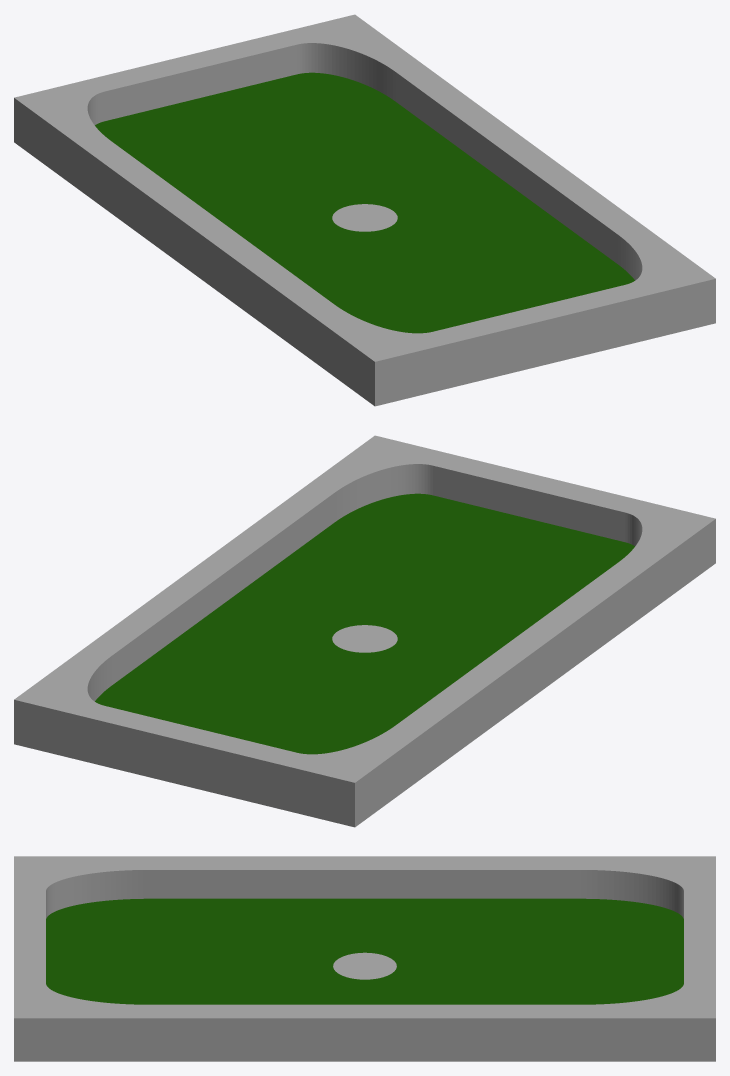
File: Pitch.fbx
3 renders of one model, top to bottom at view 1: azimuth 30°, elevation 25°; view 2: azimuth 150°, elevation 25°; view 3: azimuth 270°, elevation 25°, orthographic. The views are drawn at different scales.
Parts seen in each view (by area): view 1: Cube; view 2: Cube; view 3: Cube.
Part boxes in pixels (x1,y1,x2,y2): Cube: (14, 14, 715, 406); Cube: (14, 435, 715, 827); Cube: (14, 856, 715, 1061).
Bounding box in the file's own units: 1200 × 150 × 2200.
